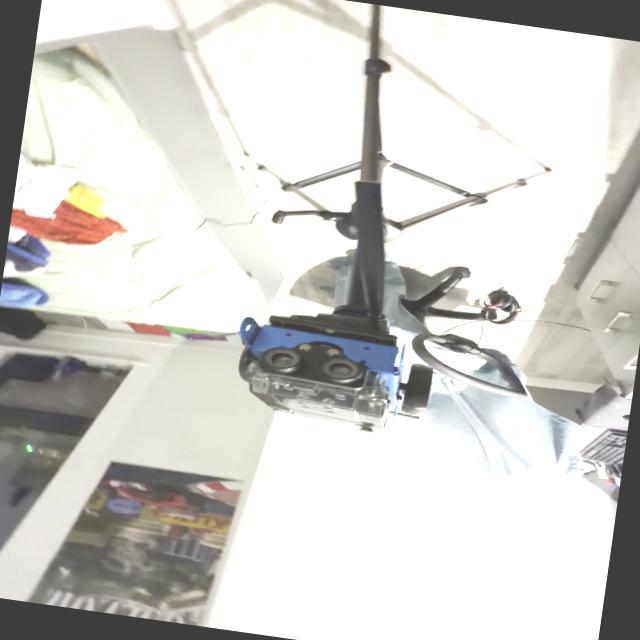mbot-detection: (218, 311, 447, 446)
